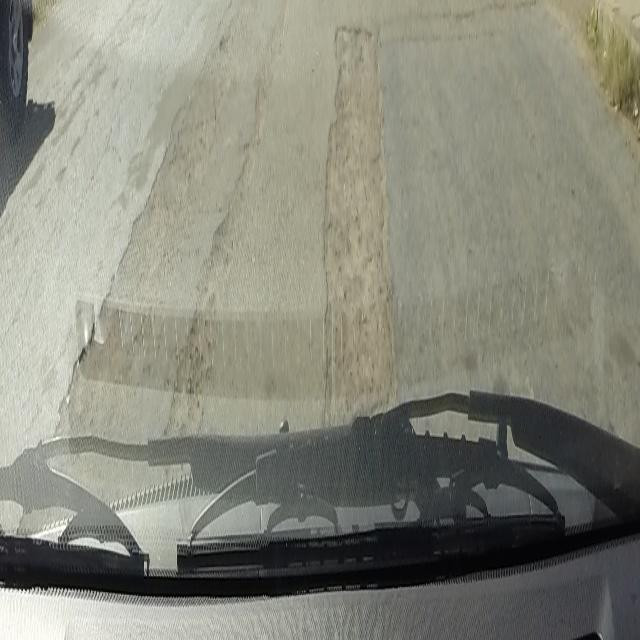pothole: (322, 29, 389, 416)
